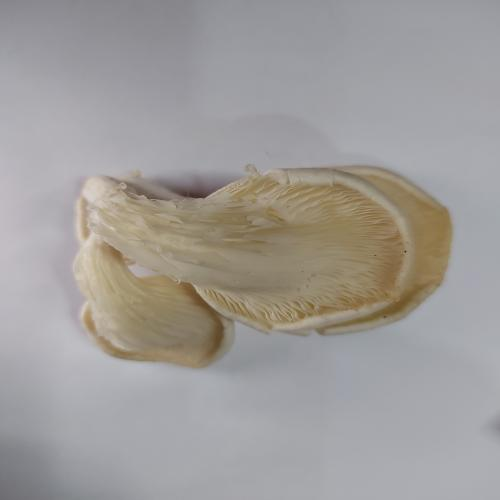Oyster Mushroom: (72, 162, 454, 369)
